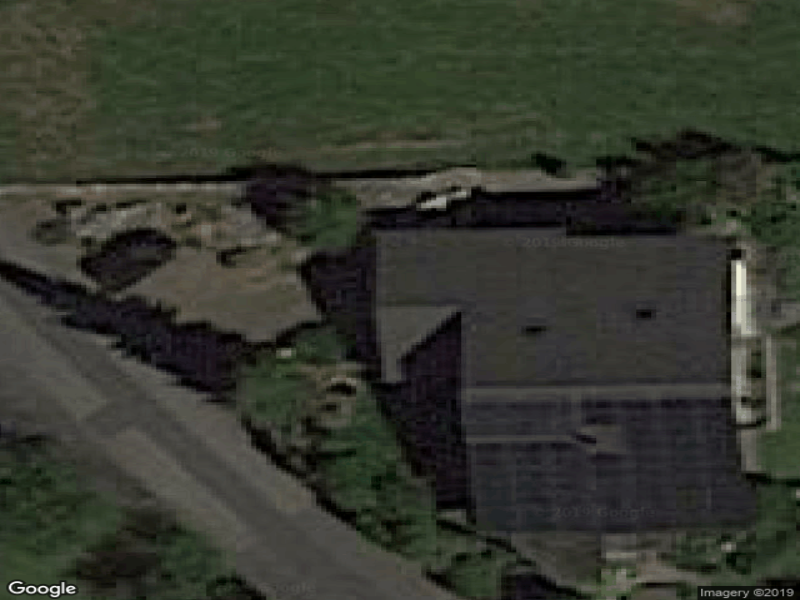pv: (461, 399, 756, 533)
